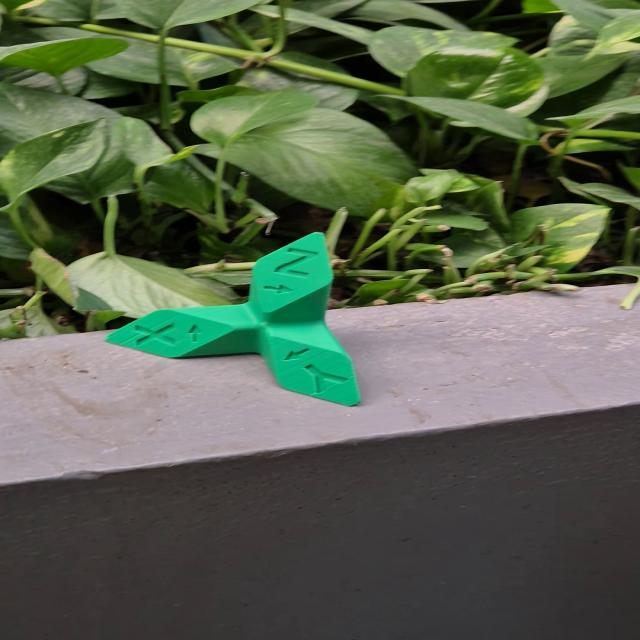objects: (101, 230, 364, 408)
